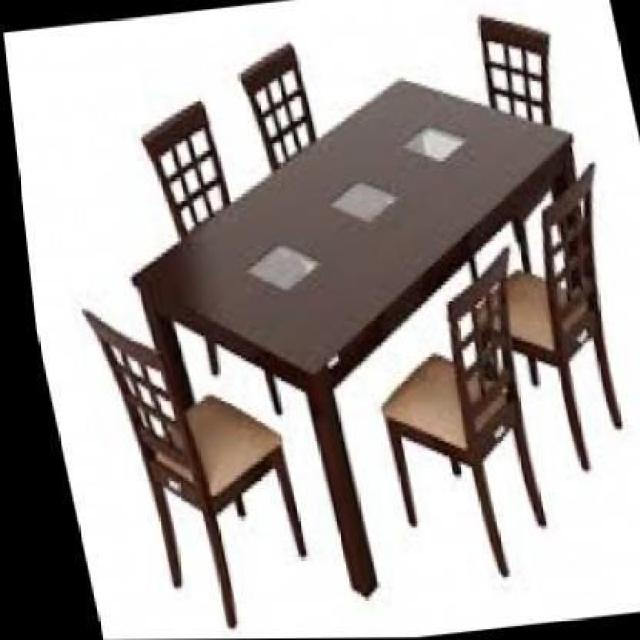tables: (129, 75, 577, 597)
